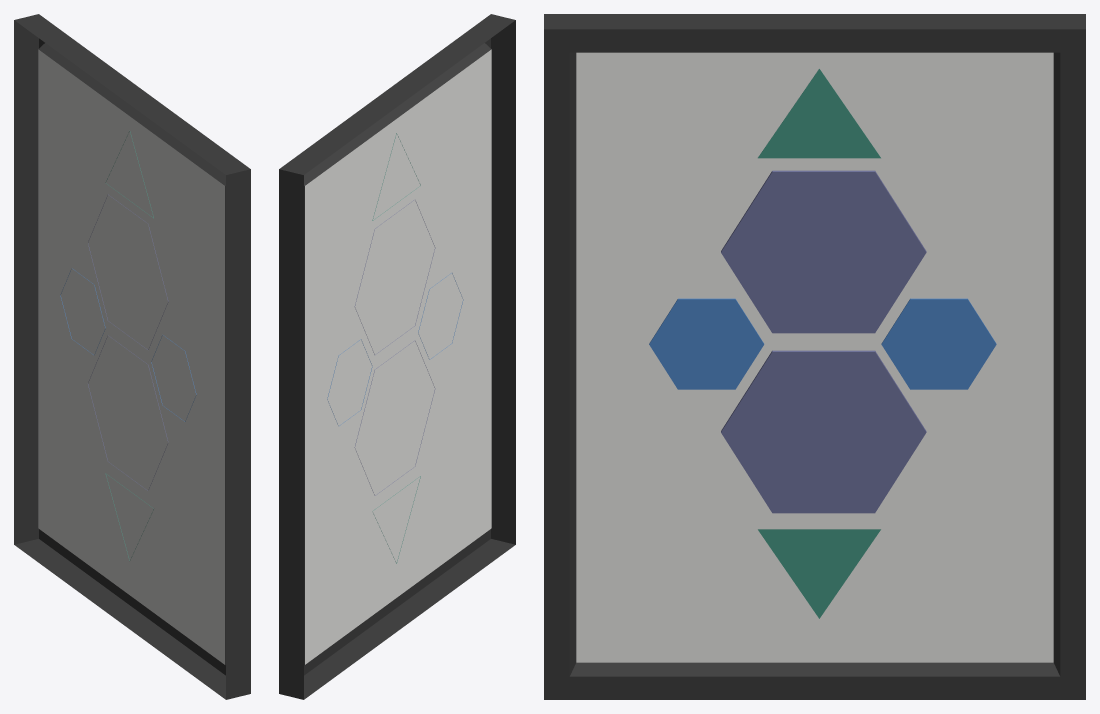
File: Picture_5.fbx
The picture shows the model from 3 angles, left to right: view 1: azimuth 30°, elevation 25°; view 2: azimuth 150°, elevation 25°; view 3: azimuth 270°, elevation 25°; orthographic projection. The views are drawn at different scales.
Parts seen in each view (by area): view 1: Picture_5; view 2: Picture_5; view 3: Picture_5.
Part boxes in pixels (x1,y1,x2,y2): Picture_5: (14,14,250,699); Picture_5: (279,14,515,699); Picture_5: (544,14,1085,699).
Size of the model in its own units: 4.57 by 67.74 by 92.5.
